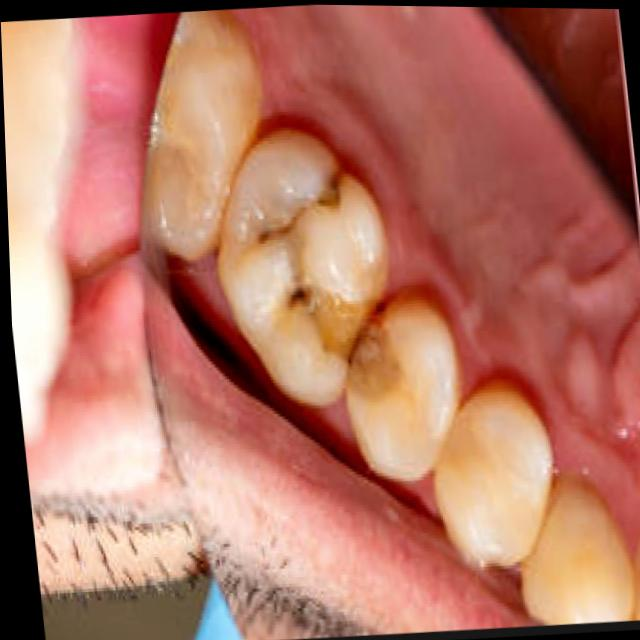cariess: (290, 271, 386, 404), (346, 314, 403, 408)
